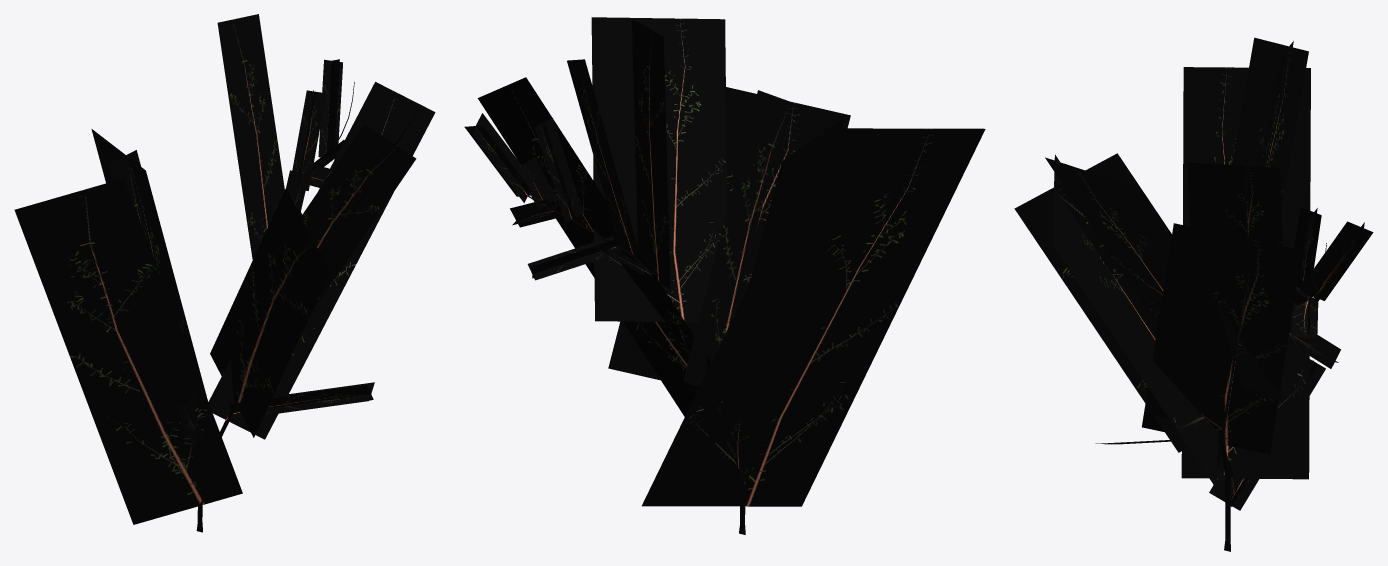
The model's file is heather_spring_winter.glb.
The picture shows the model from 3 angles, left to right: view 1: azimuth 30°, elevation 25°; view 2: azimuth 150°, elevation 25°; view 3: azimuth 270°, elevation 25°; orthographic projection. The views are drawn at different scales.
Parts seen in each view (by area): view 1: 2_Leaves; view 2: 2_Leaves; view 3: 2_Leaves, 1_Trunk.
Boxes of the visible parts, x1,y1,x2,y2 form: 2_Leaves: (14,14,435,524); 2_Leaves: (464,17,985,506); 2_Leaves: (1014,37,1373,510); 1_Trunk: (1218,243,1326,551).
Size of the model in its own units: 60.75 by 63.66 by 38.31.
Materials: 1 (1 with a texture image).
